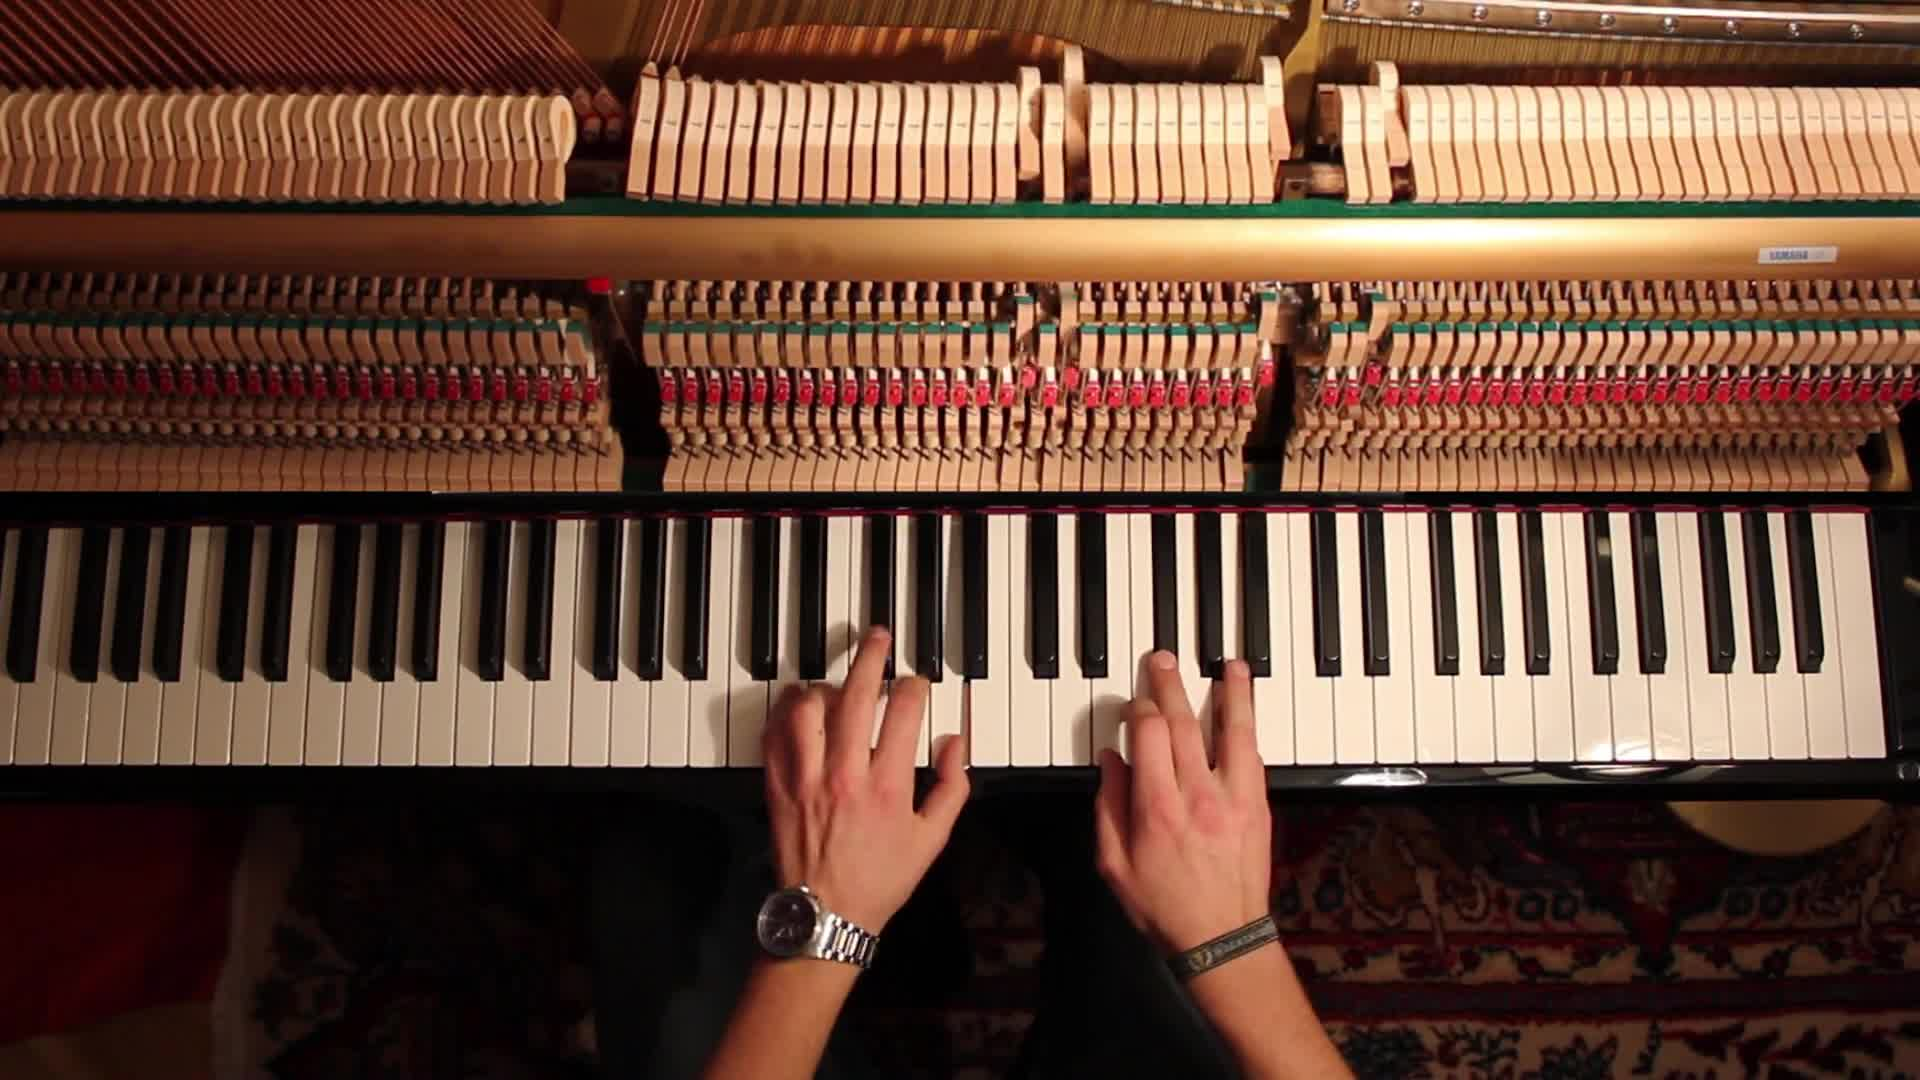left: (753, 622, 975, 905)
right: (1075, 640, 1290, 945)
